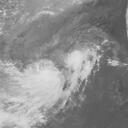cyclone: (26, 59, 72, 105)
